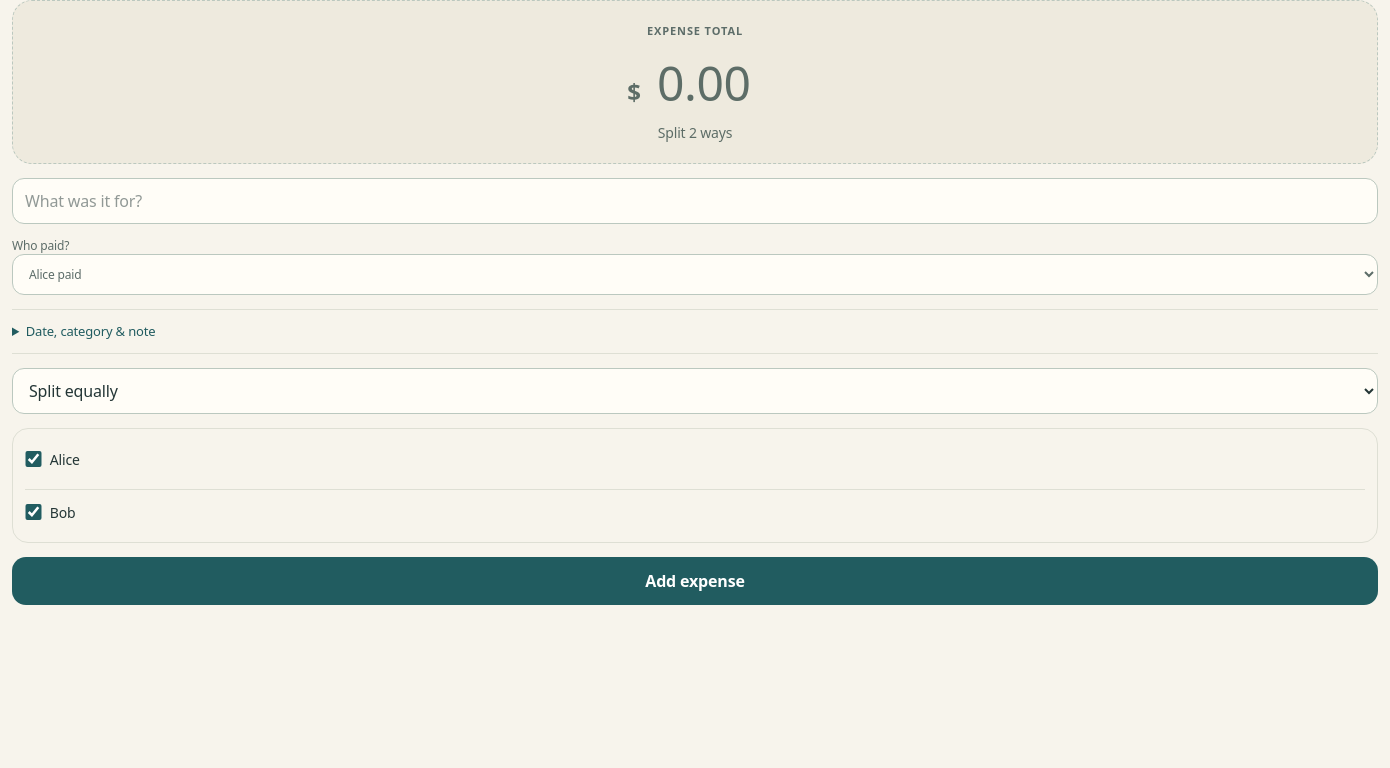
Test: what it refuses to send › refuses a split with nobody in it
Type "Dinner" into the field named "What the expense was for" at (695, 200), box [12,178,1378,224]
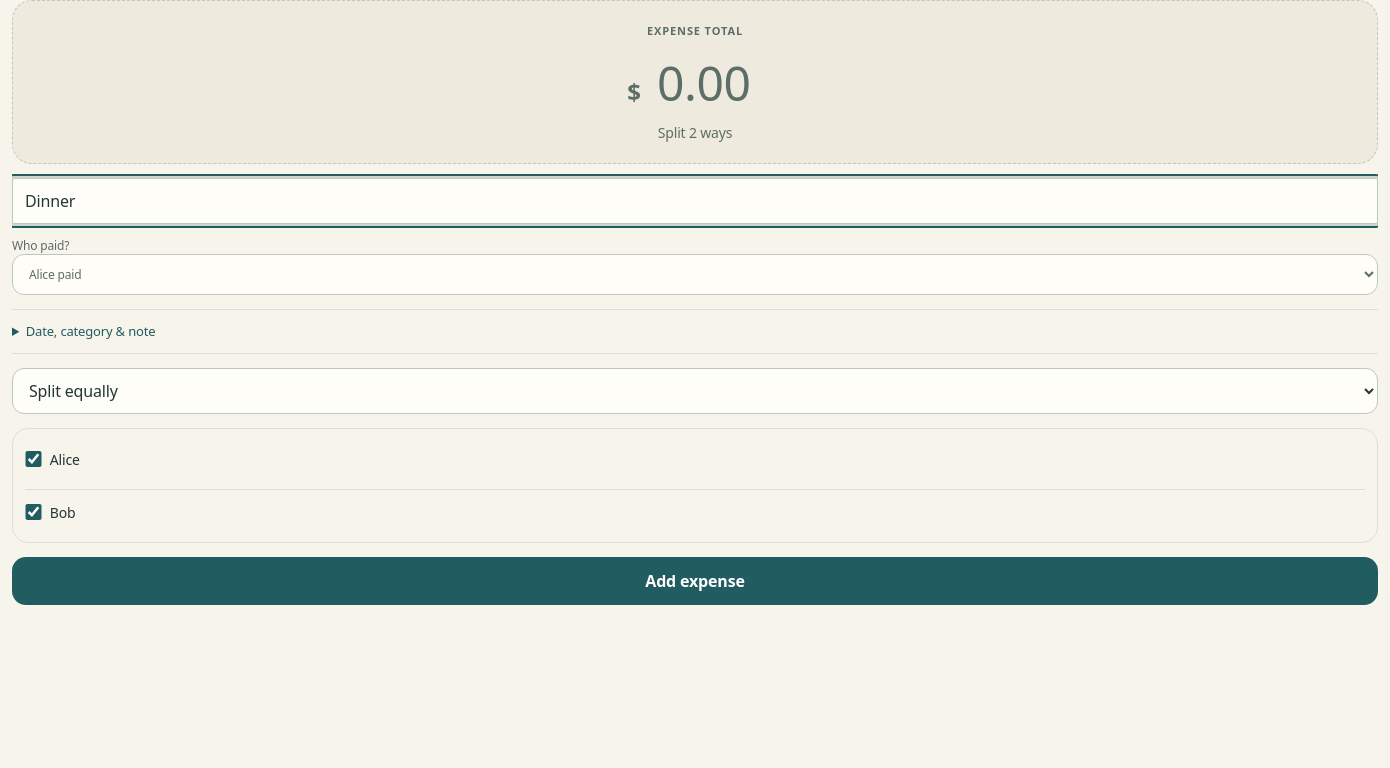
Type "90.00" into the field named "Amount" at (704, 82), box [645,50,763,114]
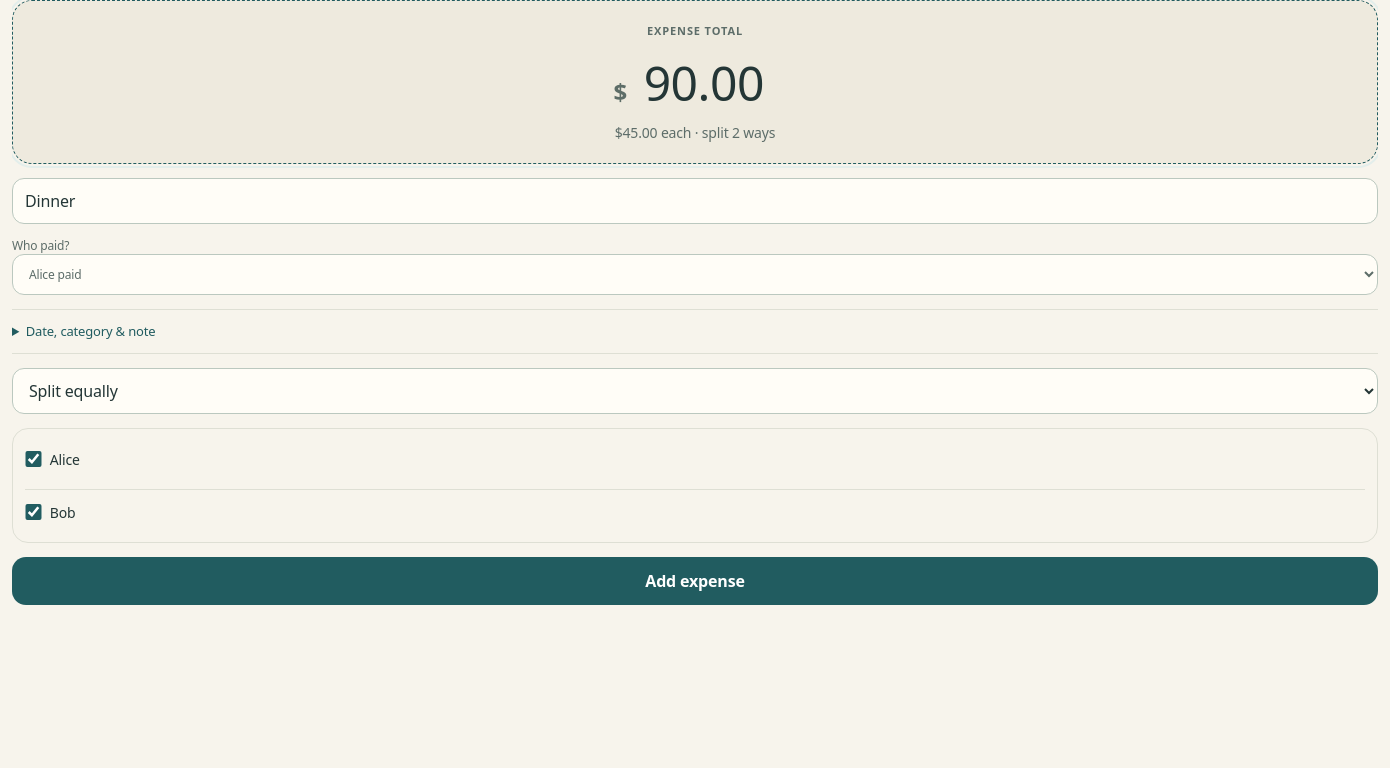
Click the checkbox labelled "Alice" at (33, 459), box [25,451,42,467]
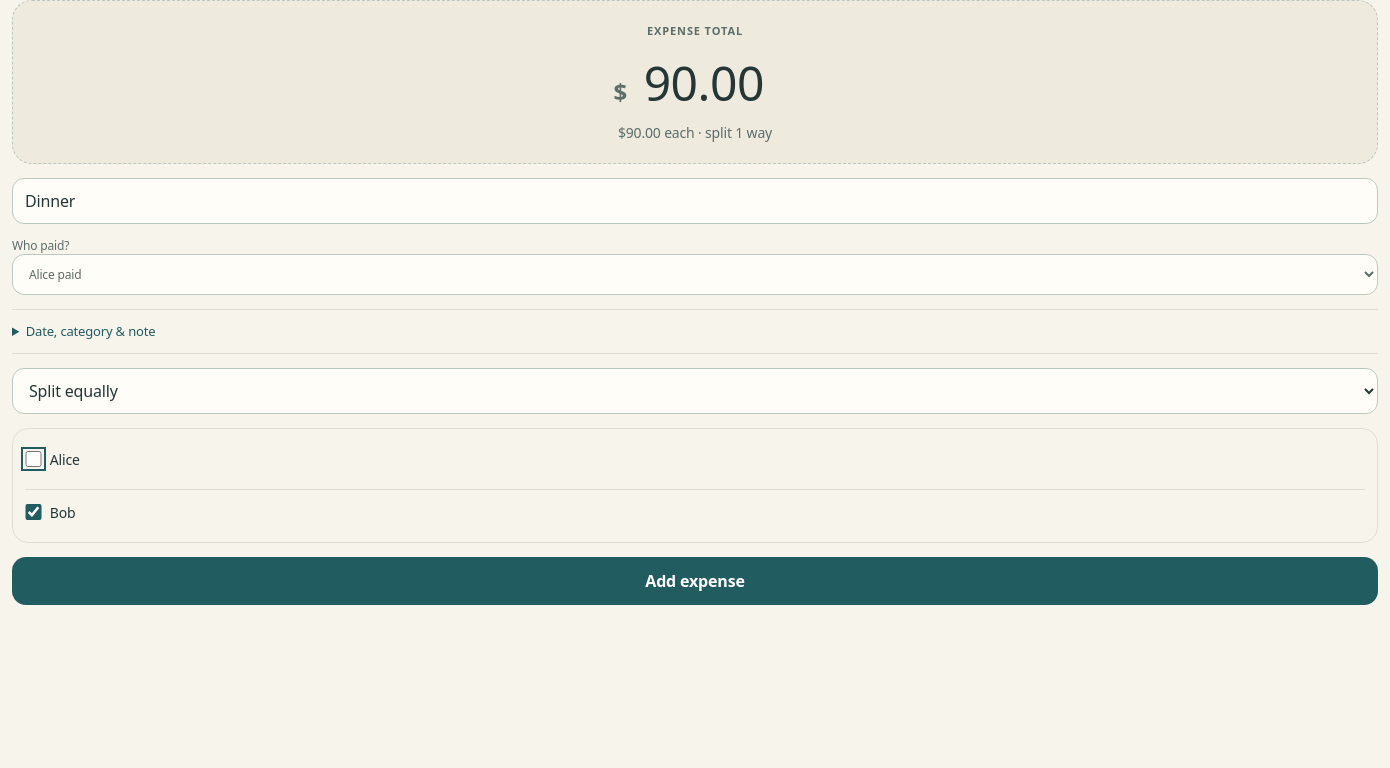
Click the checkbox labelled "Bob" at (33, 512), box [25,504,42,520]
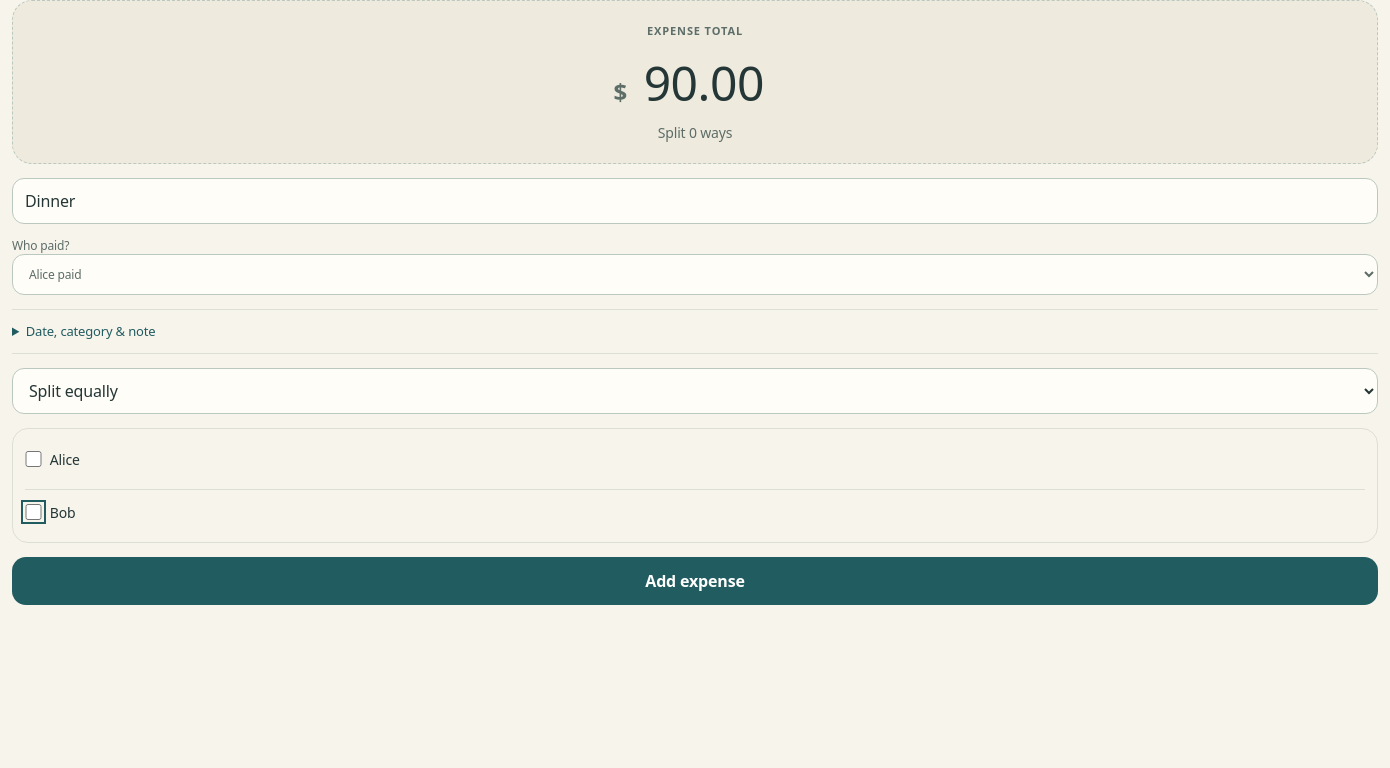
Click the button "Add expense" at (695, 581), box [12,557,1378,605]
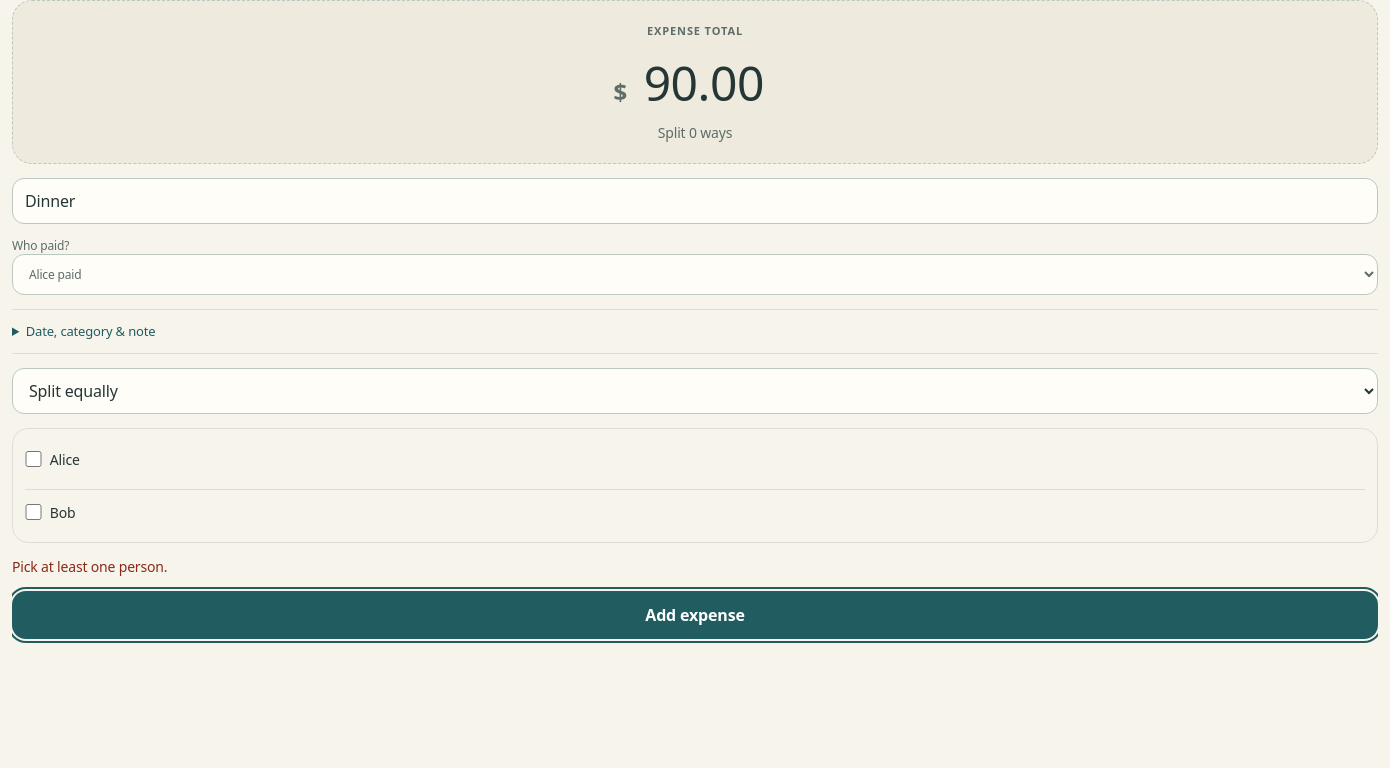
Expected: the message reads "Pick at least one person.", [12,557,167,576]
